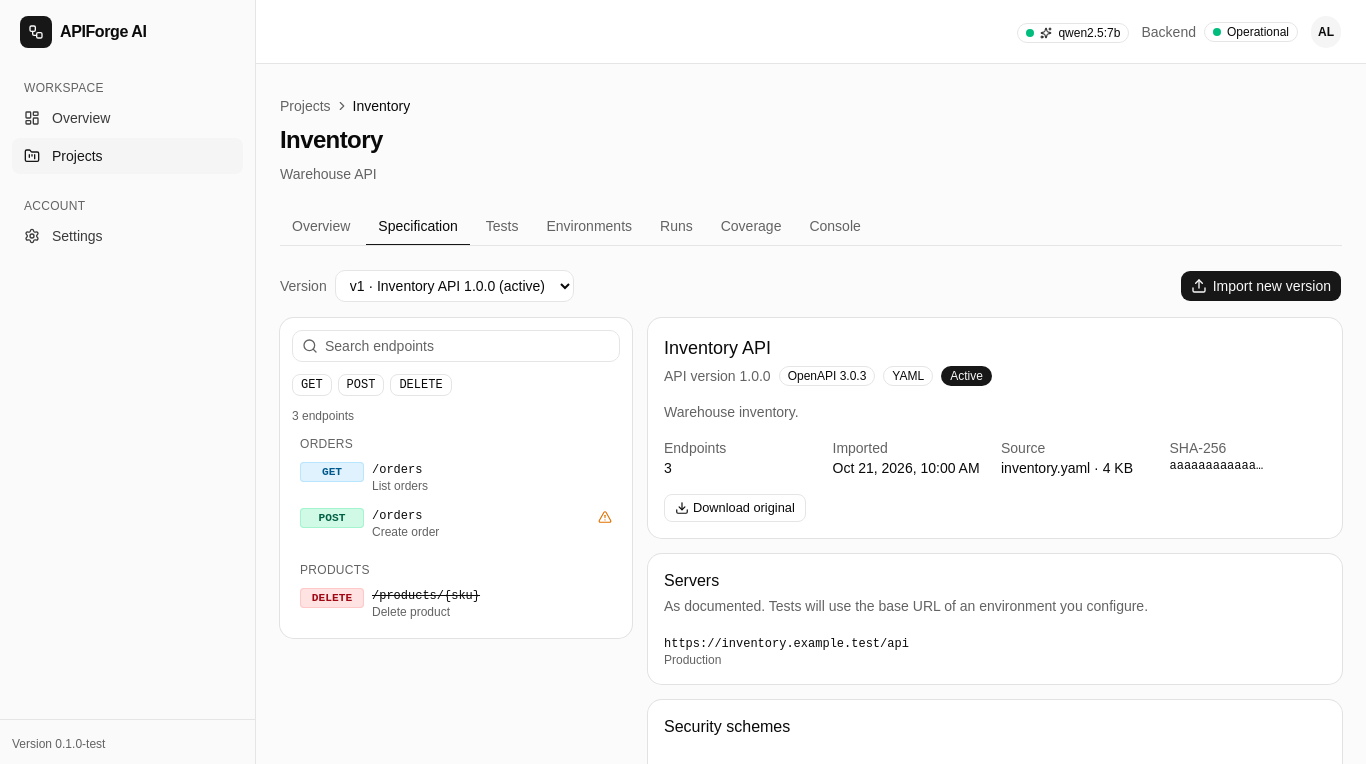
Test: Specification explorer › filters endpoints by method
What coordinates should you click on to do the following:
click the button "POST"
I would click on:
 (361, 385)
Its box is [338,374,384,396].
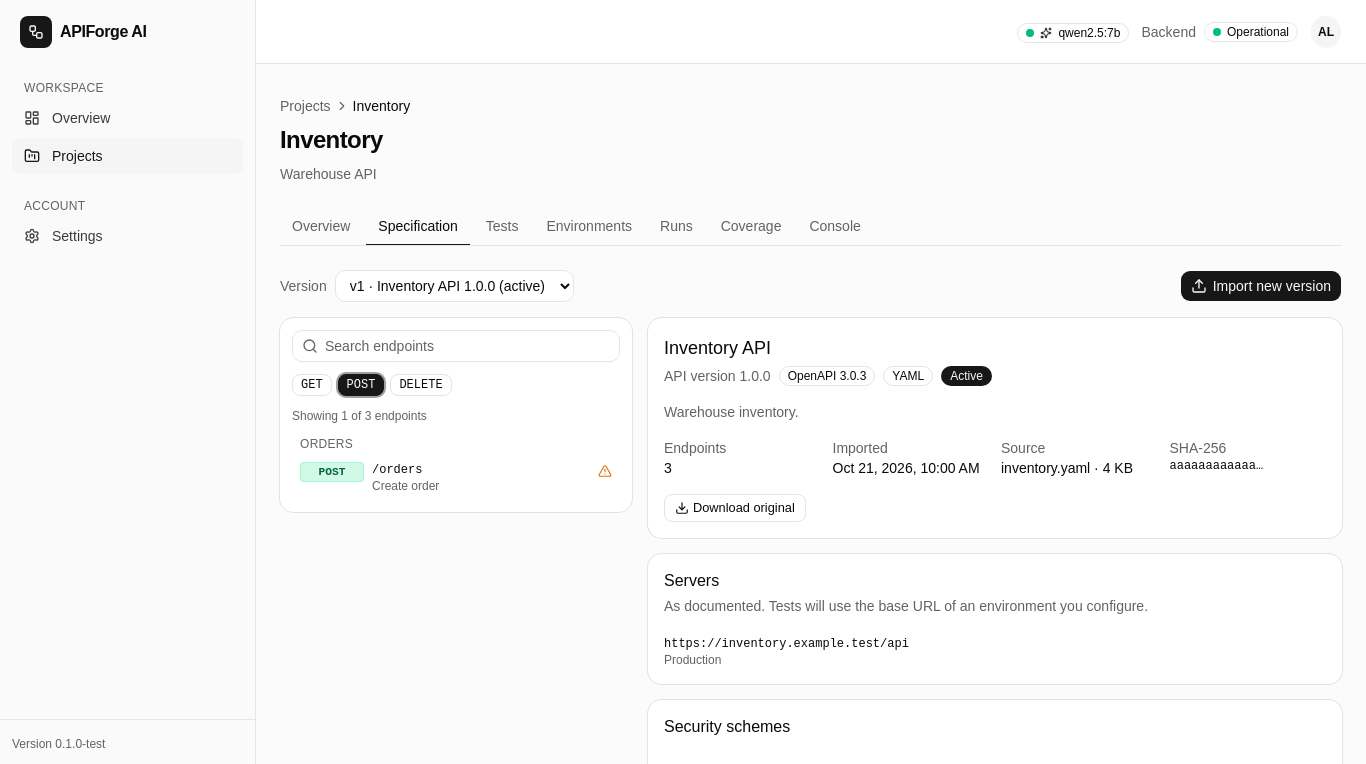
Expected: the text "Create order" is shown, [372,479,439,493]
Expected: the text "Showing 1 of 3 endpoints" is shown, [292,409,427,423]
